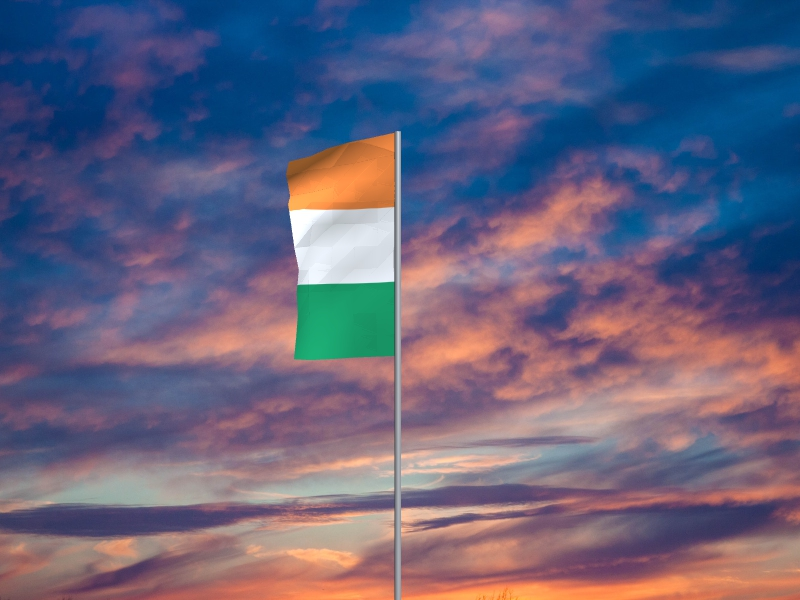ie: (286, 134, 395, 361)
